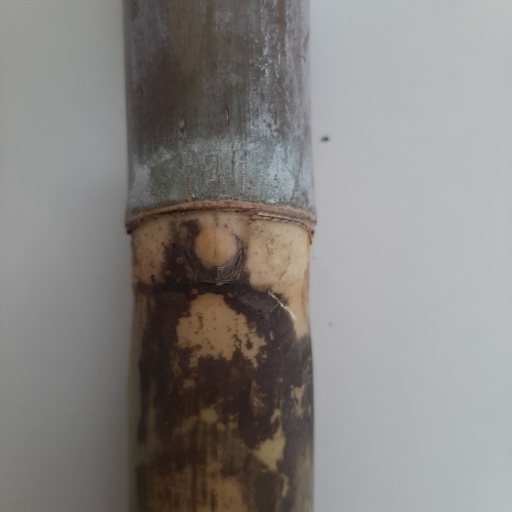Bud: (191, 221, 241, 278)
